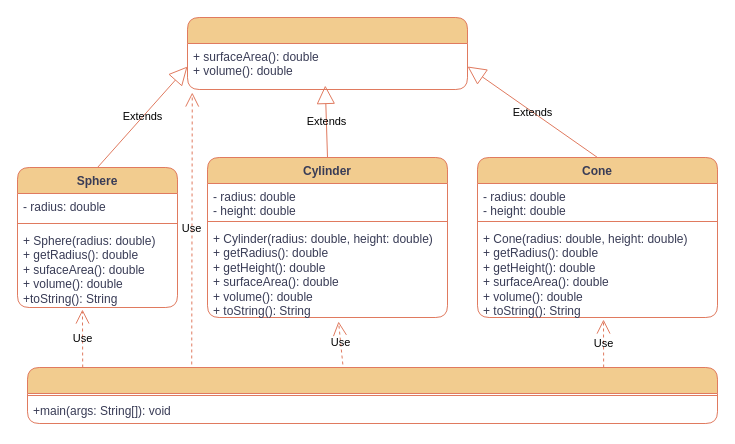
Image size: 735x444. Some labels were removed from this diagram. The box of each missing label's shape, as (x1, y1, x2, y2) in pixels:
Shape: (186, 16, 468, 90)
ShapeArray: (26, 366, 718, 424)
